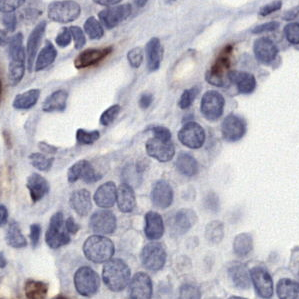Lymphocyte: (74, 47, 112, 68)
